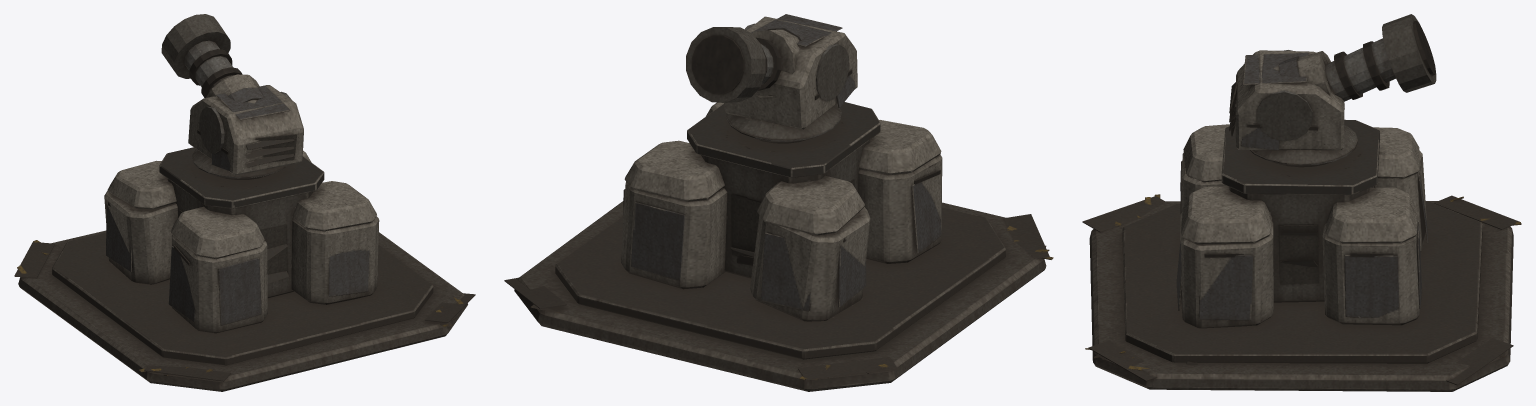
File: ord_nano_wreck.fbx
The picture shows the model from 3 angles, left to right: view 1: azimuth 30°, elevation 25°; view 2: azimuth 150°, elevation 25°; view 3: azimuth 270°, elevation 25°; orthographic projection. The views are drawn at different scales.
Visible parts, largest first — view 1: base_bar, turret_bar, nano_bar; view 2: base_bar, turret_bar, nano_bar; view 3: base_bar, nano_bar, turret_bar.
Boxes of the visible parts, box(x1,y1,x2,y2) form: base_bar: box(14, 147, 475, 391); turret_bar: box(188, 85, 303, 179); nano_bar: box(161, 14, 291, 153); base_bar: box(504, 102, 1053, 391); turret_bar: box(724, 14, 857, 143); nano_bar: box(686, 23, 849, 102); base_bar: box(1082, 119, 1521, 391); nano_bar: box(1256, 14, 1436, 141); turret_bar: box(1229, 50, 1357, 167).
Size of the model in its own units: 1627 by 1357 by 1624.
2 materials, 2 textured.
